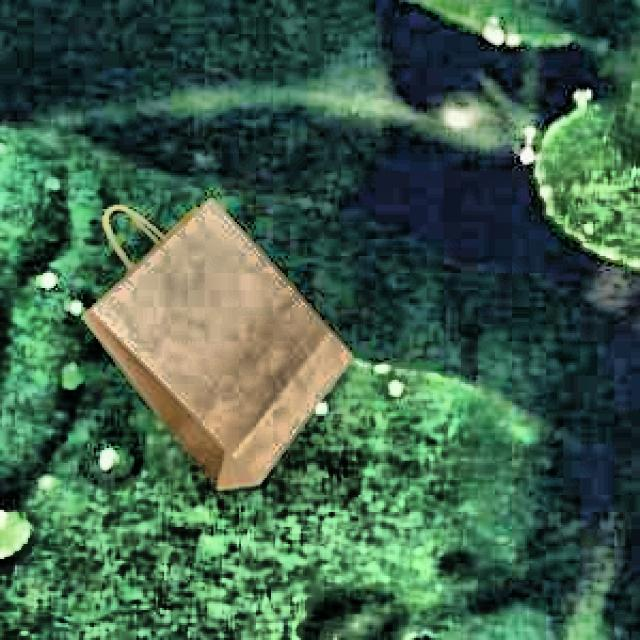Paper-bag: (76, 186, 352, 509)
